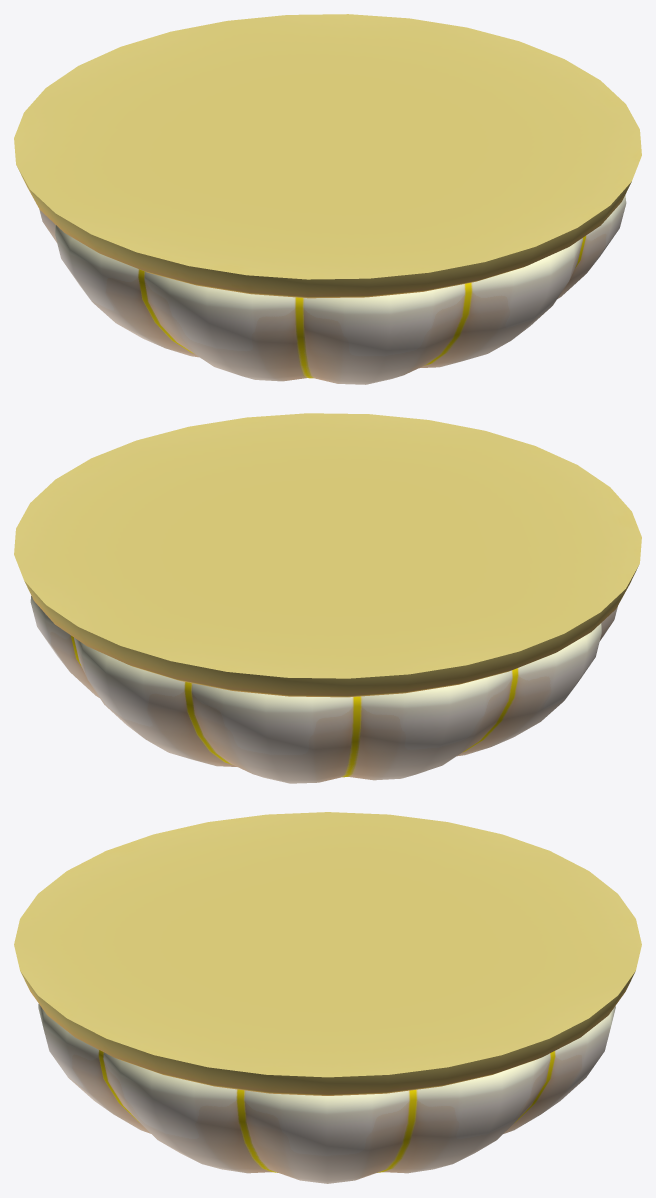
Rendered from OfficeCeilingLight04.FBX.
3 views of the same model, one above another, from view 1: azimuth 30°, elevation 25°; view 2: azimuth 150°, elevation 25°; view 3: azimuth 270°, elevation 25° (orthographic).
Visible parts, largest first — view 1: OfficeCeilingLight04; view 2: OfficeCeilingLight04; view 3: OfficeCeilingLight04.
Boxes of the visible parts, left/top/right/bottom form: OfficeCeilingLight04: left=14, top=14, right=641, bottom=384; OfficeCeilingLight04: left=14, top=413, right=641, bottom=783; OfficeCeilingLight04: left=14, top=812, right=641, bottom=1183.
Size of what is drawn, in the model's own units: 0.8771 by 0.2935 by 0.8771.
